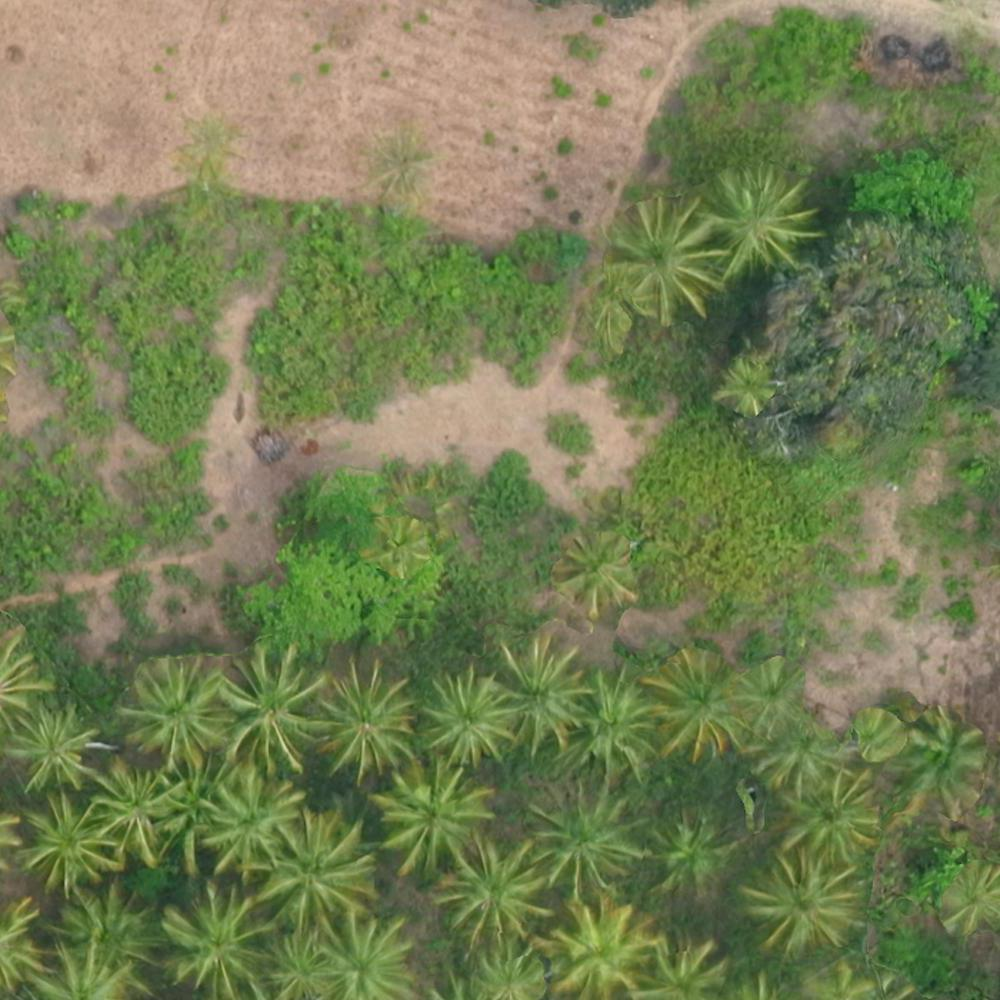Palm: (604, 201, 719, 315), (743, 851, 865, 957), (375, 762, 492, 871), (214, 652, 327, 764), (437, 838, 546, 946), (704, 169, 817, 273), (530, 791, 644, 894), (266, 812, 374, 919), (164, 889, 272, 994), (316, 666, 418, 773), (48, 891, 162, 986), (122, 666, 232, 764), (498, 636, 593, 749), (645, 645, 742, 754), (546, 899, 654, 996), (566, 674, 657, 781), (204, 774, 303, 871), (417, 671, 517, 764), (781, 775, 886, 863), (17, 795, 117, 886), (5, 701, 97, 793), (327, 913, 421, 999), (647, 814, 737, 898), (99, 767, 182, 852), (557, 532, 638, 613), (640, 932, 733, 999), (254, 926, 335, 1000), (459, 948, 550, 1000), (941, 859, 1000, 937)
